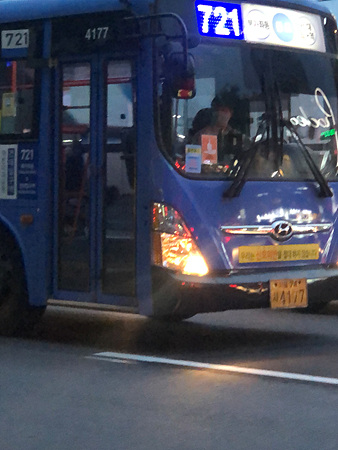entrance: (50, 51, 146, 308)
